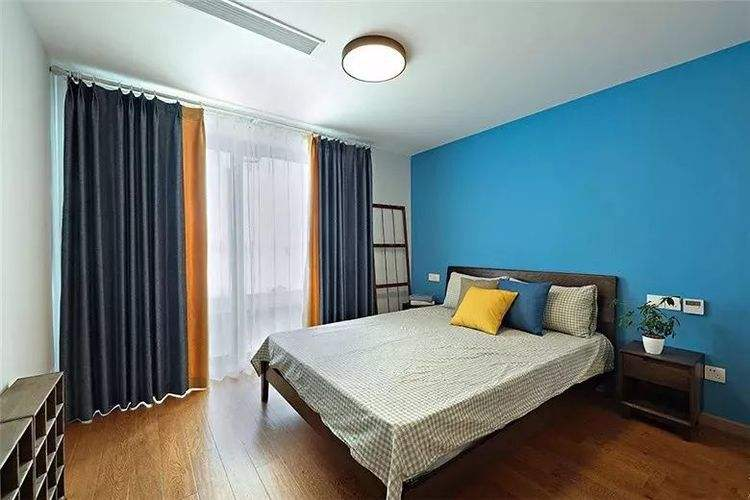床: (262, 308, 603, 478)
枕头: (443, 276, 596, 340)
灯: (334, 29, 411, 87)
